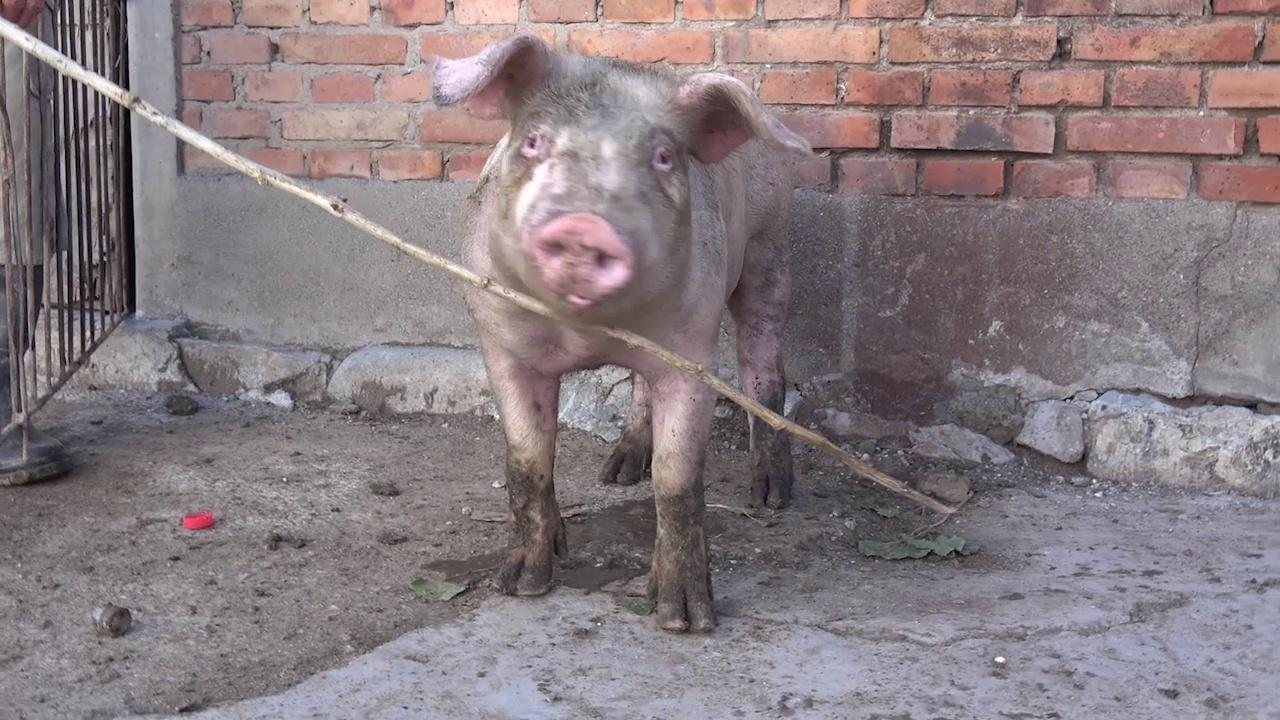Face: (420, 25, 824, 326)
